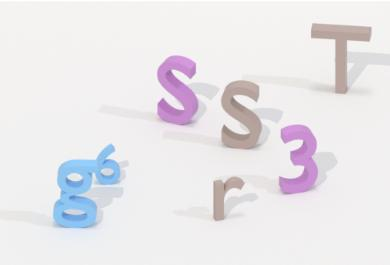3: (276, 121, 320, 199)
6: (49, 156, 101, 230), (90, 139, 126, 193)
S: (153, 52, 203, 128), (218, 76, 266, 153)
T: (307, 17, 377, 100)
r: (209, 173, 248, 224)
